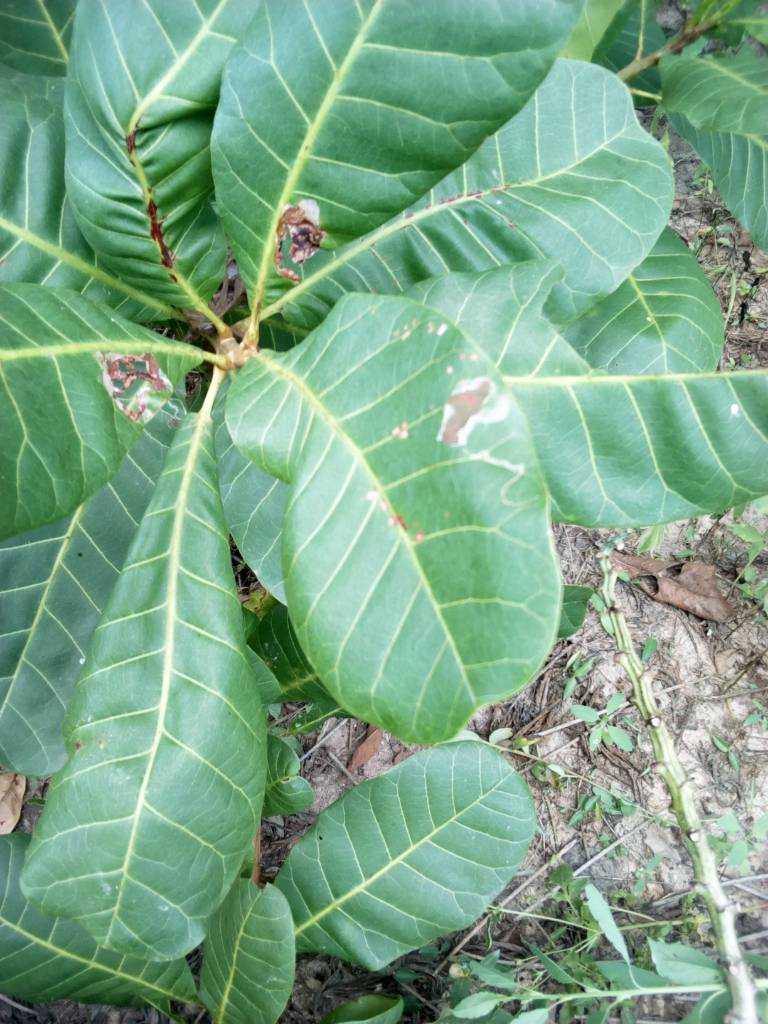Dysdercus wolkerii: (225, 278, 583, 746)
